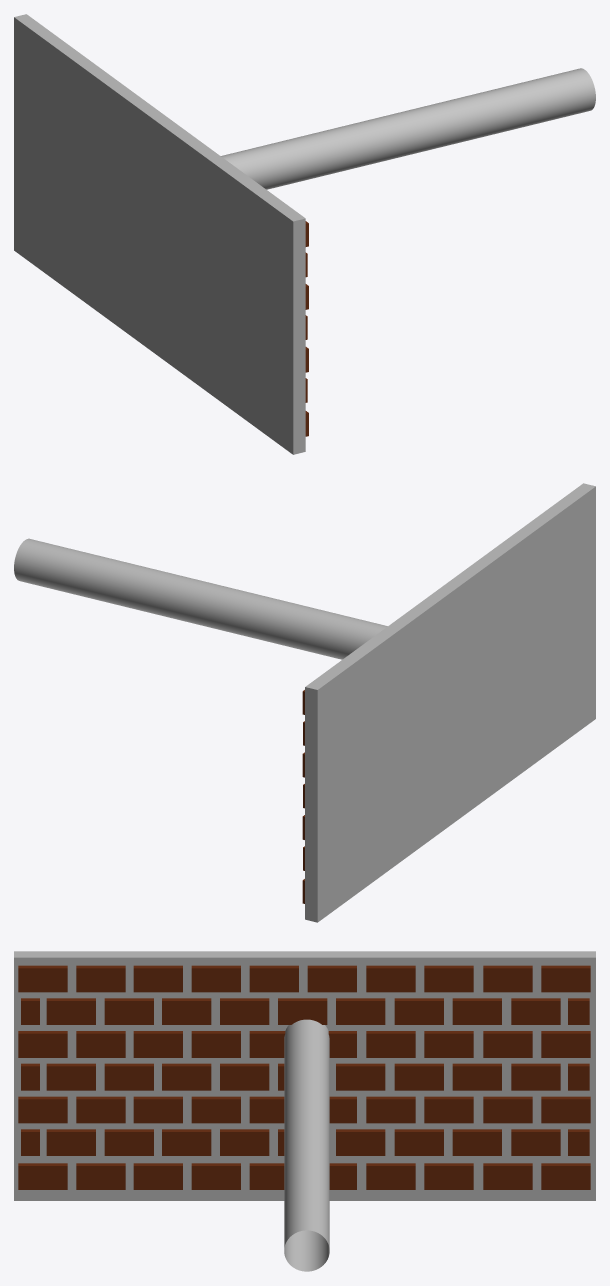
The model's file is Modelo (Perlin Circular, Muro).fbx.
3 views of the same model, one above another, from view 1: azimuth 30°, elevation 25°; view 2: azimuth 150°, elevation 25°; view 3: azimuth 270°, elevation 25° (orthographic). The views are drawn at different scales.
Parts seen in each view (by area): view 1: Muro Completo.001, Cylinder.002; view 2: Muro Completo.001, Cylinder.002; view 3: Muro Completo.001, Cylinder.002.
Part boxes in pixels (bbox=[...]): Muro Completo.001: bbox=[14, 14, 308, 454]; Cylinder.002: bbox=[221, 68, 595, 189]; Muro Completo.001: bbox=[302, 483, 595, 922]; Cylinder.002: bbox=[14, 538, 387, 659]; Muro Completo.001: bbox=[14, 951, 595, 1200]; Cylinder.002: bbox=[284, 1019, 329, 1271].
Size of the model in its own units: 1144 by 590 by 1279.
